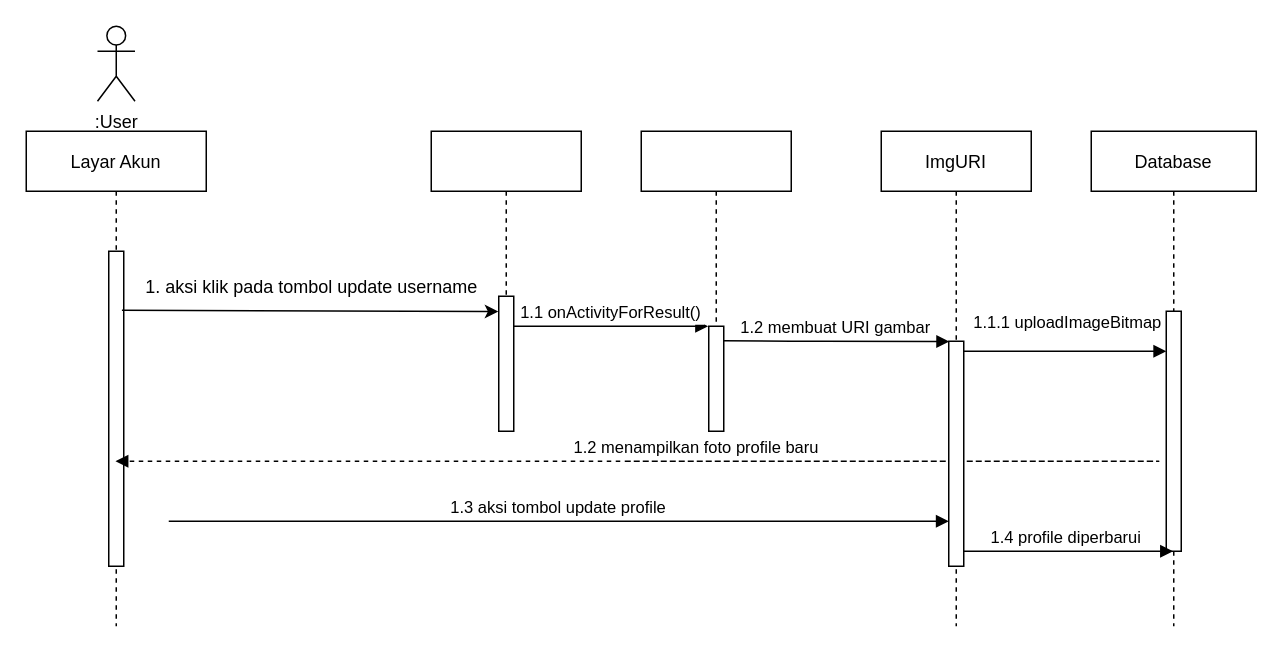
This 1283x653 diagram has some shape labels left out. Here are the shapes that lost their labels. From the top down, the box of each, then its label:
(430, 130, 581, 431): update username
(640, 130, 791, 431): Image Capture
